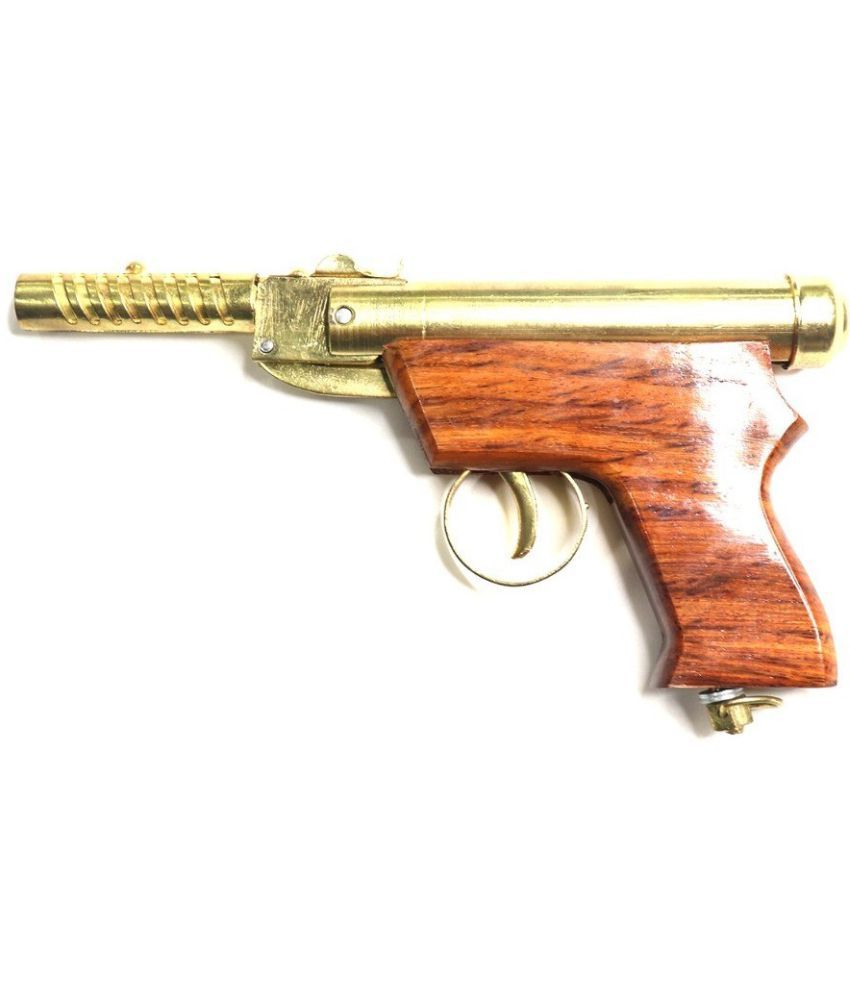GUN: (10, 248, 849, 741)
